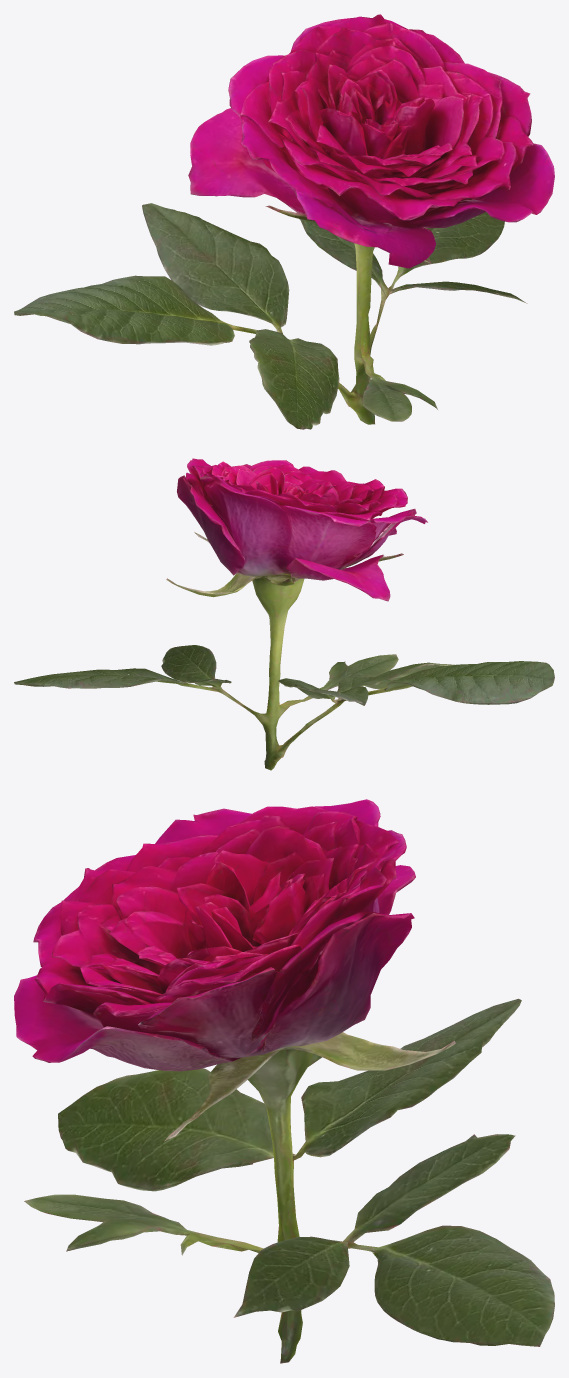
File: rose-v1-transformed.glb
3 views of the same model, one above another, from view 1: azimuth 30°, elevation 25°; view 2: azimuth 150°, elevation 25°; view 3: azimuth 270°, elevation 25° (orthographic). The views are drawn at different scales.
Visible parts, largest first — view 1: rose; view 2: rose; view 3: rose.
Boxes of the visible parts, box(x1,y1,x2,y2) form: rose: box(14, 14, 554, 429); rose: box(14, 458, 554, 770); rose: box(14, 799, 554, 1363).
Size of the model in its own units: 2.38 by 1.49 by 1.41.
Materials: 1 (1 with a texture image).
